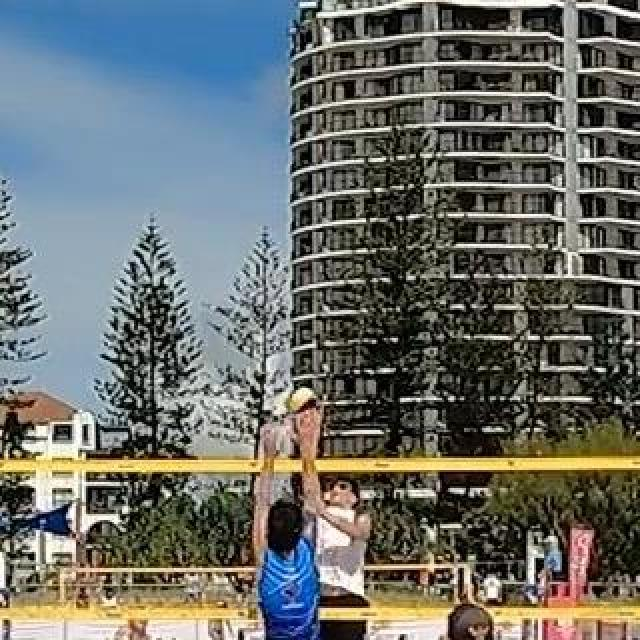volleyball: (289, 389, 317, 415)
